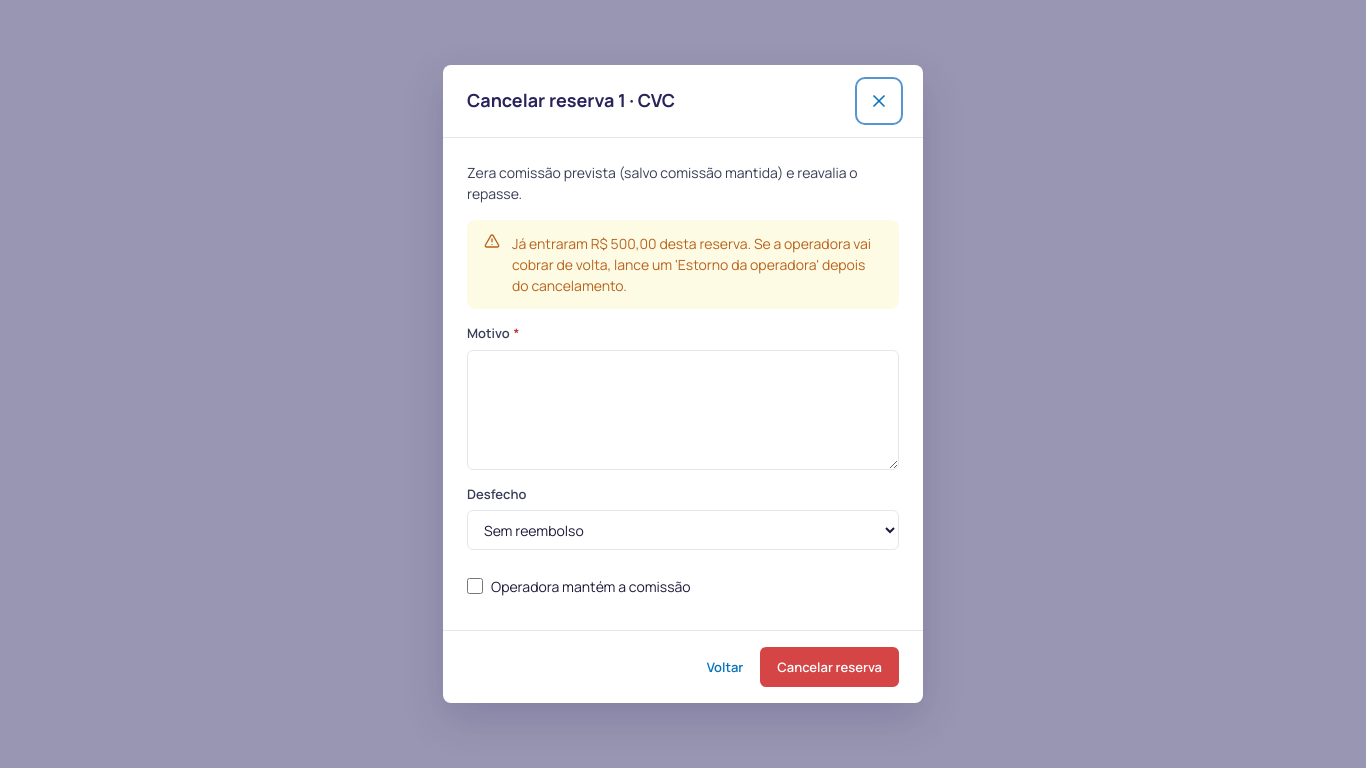
Test: A23: recebido > 0 mas comissão mantida marcada não mostra o aviso
Click the checkbox labelled "Operadora mantém a comissão". click: (475, 586)
box: [467,578,483,594]
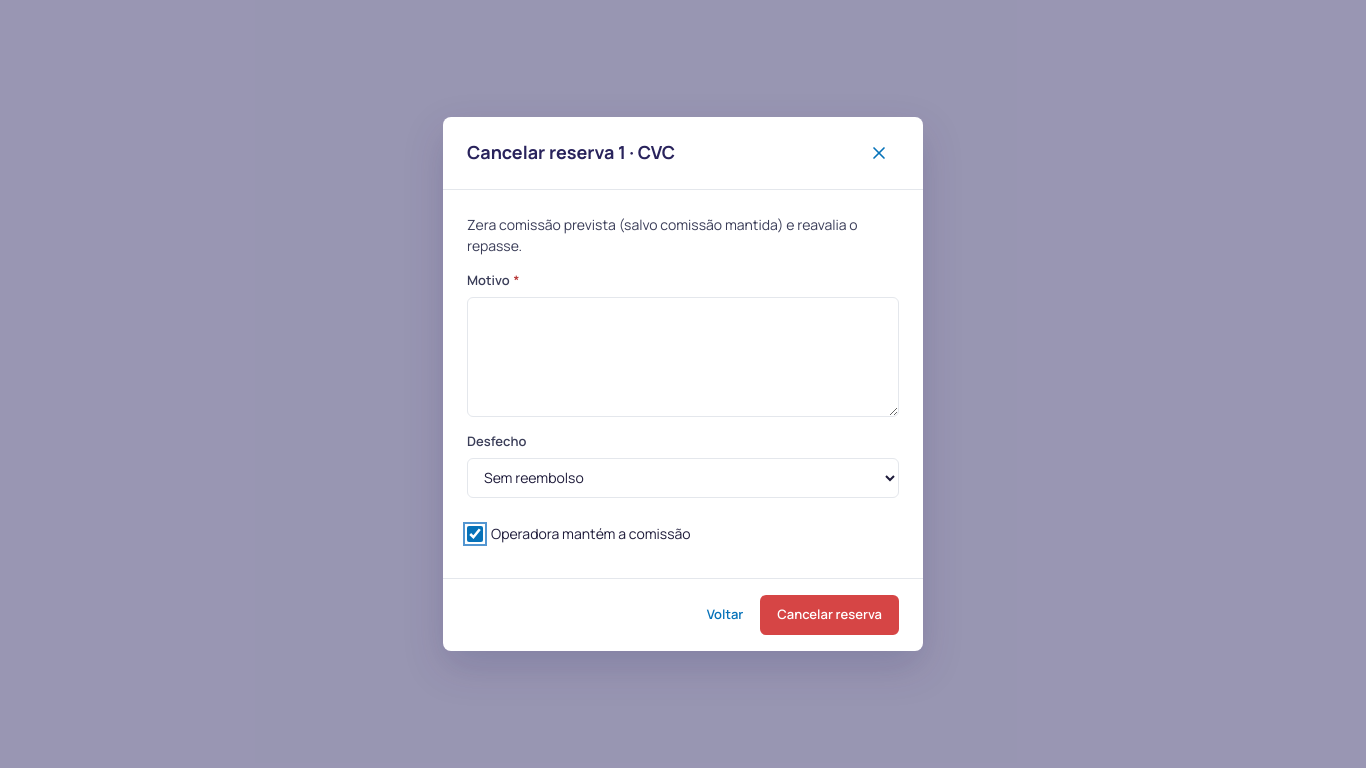
Now the text "Já entraram" is gone
